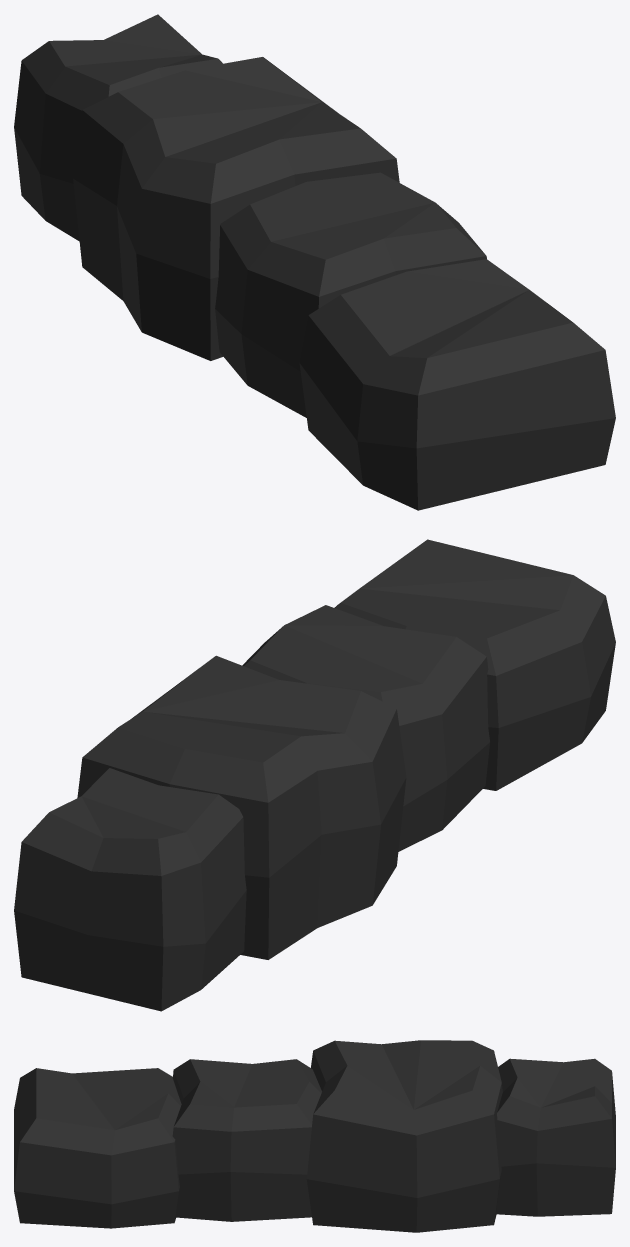
File: wall_acc_01.FBX
The picture shows the model from 3 angles, top to bottom: view 1: azimuth 30°, elevation 25°; view 2: azimuth 150°, elevation 25°; view 3: azimuth 270°, elevation 25°; orthographic projection. The views are drawn at different scales.
Visible parts, largest first — view 1: wall_acc_01; view 2: wall_acc_01; view 3: wall_acc_01.
Boxes of the visible parts, x1,y1,x2,y2 form: wall_acc_01: [14, 14, 615, 510]; wall_acc_01: [14, 539, 615, 1011]; wall_acc_01: [14, 1040, 615, 1232].
Bounding box in the file's own units: 34.05 × 24.07 × 103.
